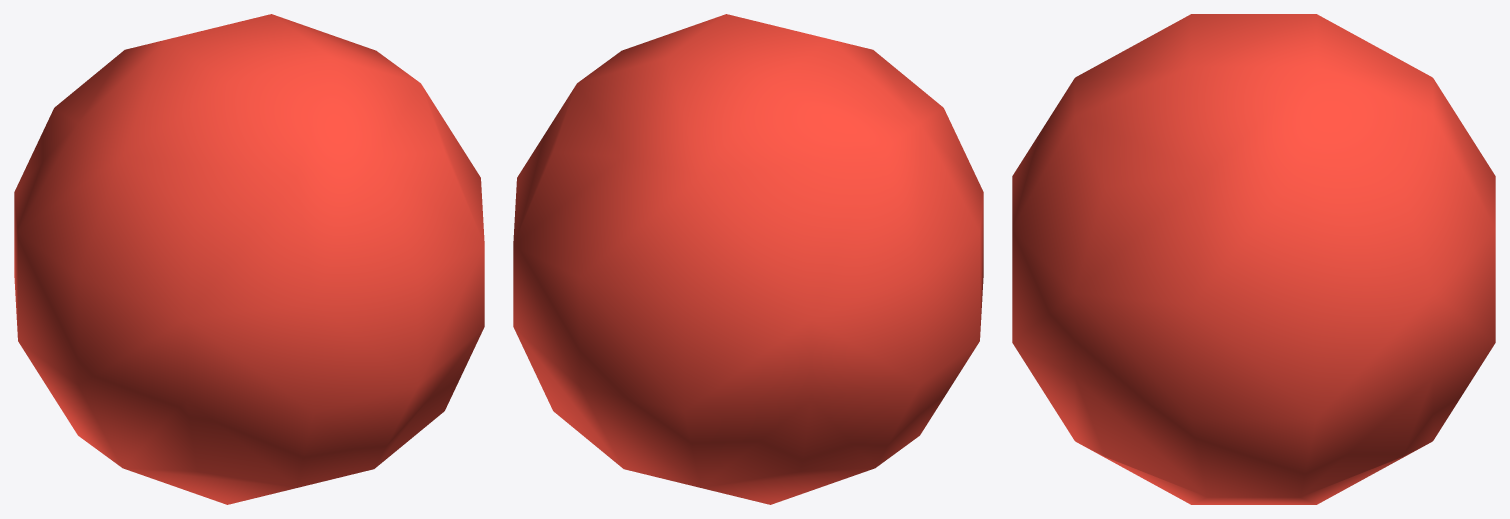
File: Balls.glb
The picture shows the model from 3 angles, left to right: view 1: azimuth 30°, elevation 25°; view 2: azimuth 150°, elevation 25°; view 3: azimuth 270°, elevation 25°; orthographic projection. The views are drawn at different scales.
Visible parts, largest first — view 1: Football; view 2: Football; view 3: Football.
Boxes of the visible parts, box(x1,y1,x2,y2) form: Football: box(14, 14, 484, 504); Football: box(513, 14, 983, 504); Football: box(1012, 14, 1495, 504).
Size of the model in its own units: 0.1737 by 0.1737 by 0.1737.
